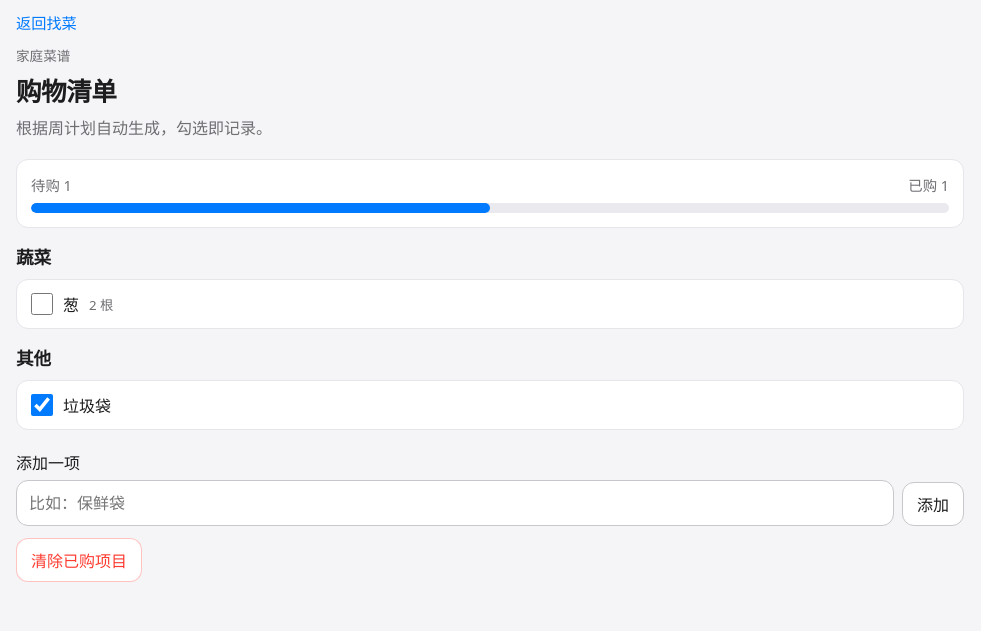
Test: ShoppingList › clears bought generated and manual items together
What coordinates should you click on to do the following:
click the checkbox labelled "葱 2 根"
I would click on:
 (42, 304)
Its box is x1=31 y1=293 x2=53 y2=315.
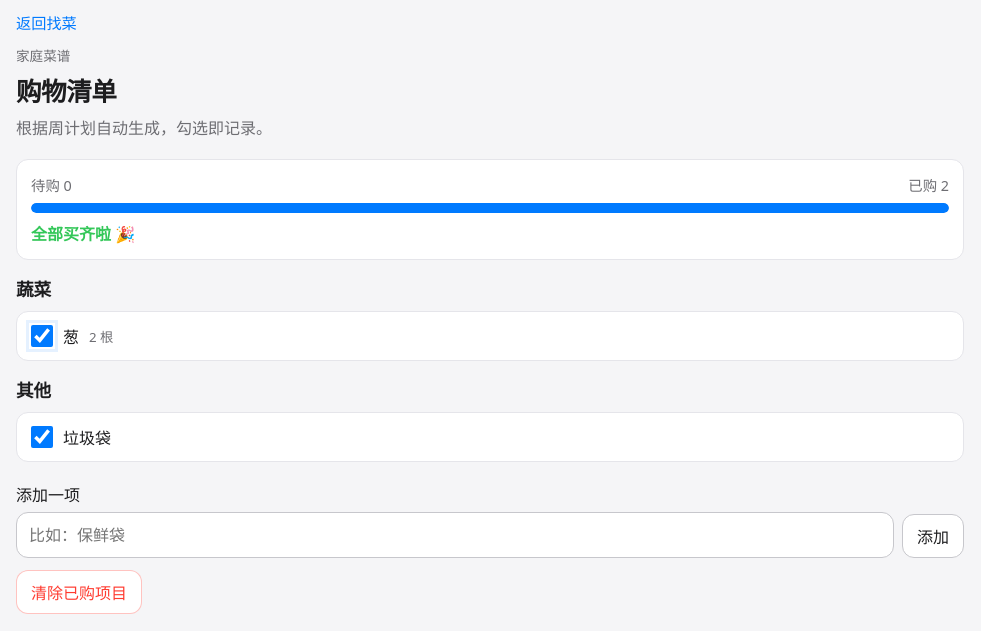
What coordinates should you click on to do the following:
click the button "清除已购项目"
I would click on:
 (79, 592)
Its box is x1=16 y1=570 x2=142 y2=614.
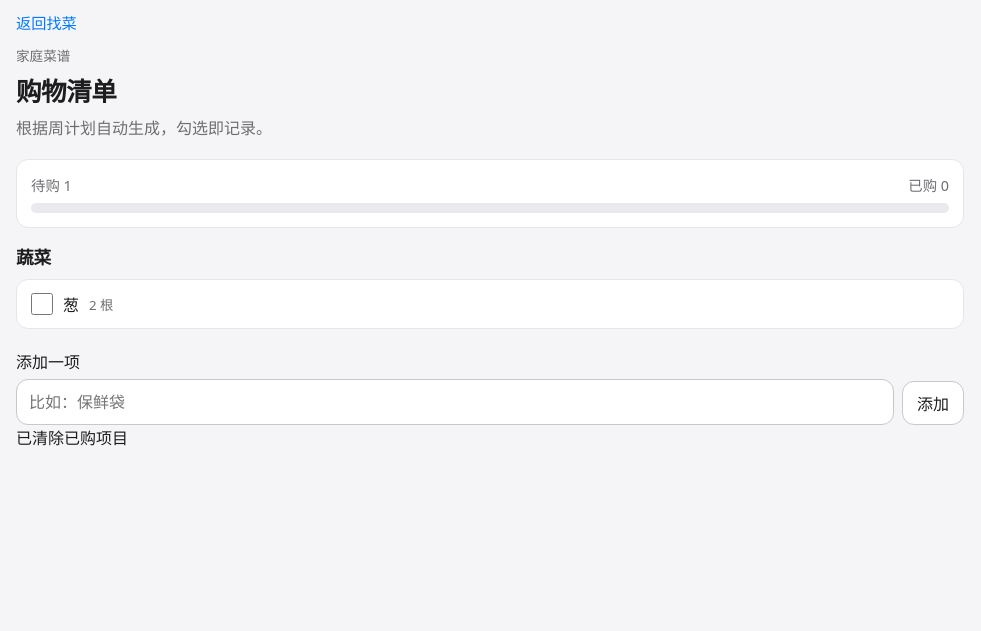
expect the checkbox labelled "葱 2 根" is not checked: met, box x1=31 y1=293 x2=53 y2=315
expect the text "垃圾袋" is gone: met
expect the message reads "已清除已购项目": met, box x1=16 y1=427 x2=128 y2=449
